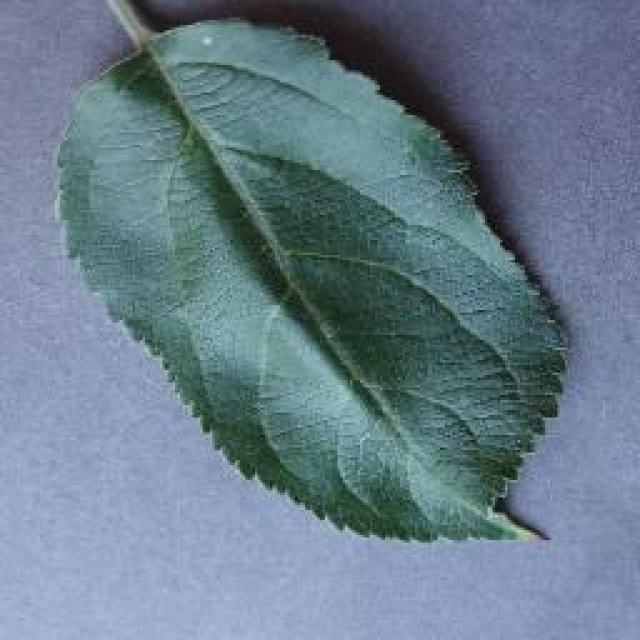apple scab disease: (52, 0, 572, 545)
